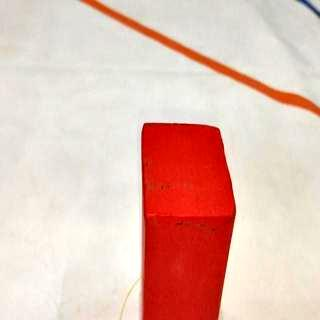redbox: (140, 121, 236, 320)
